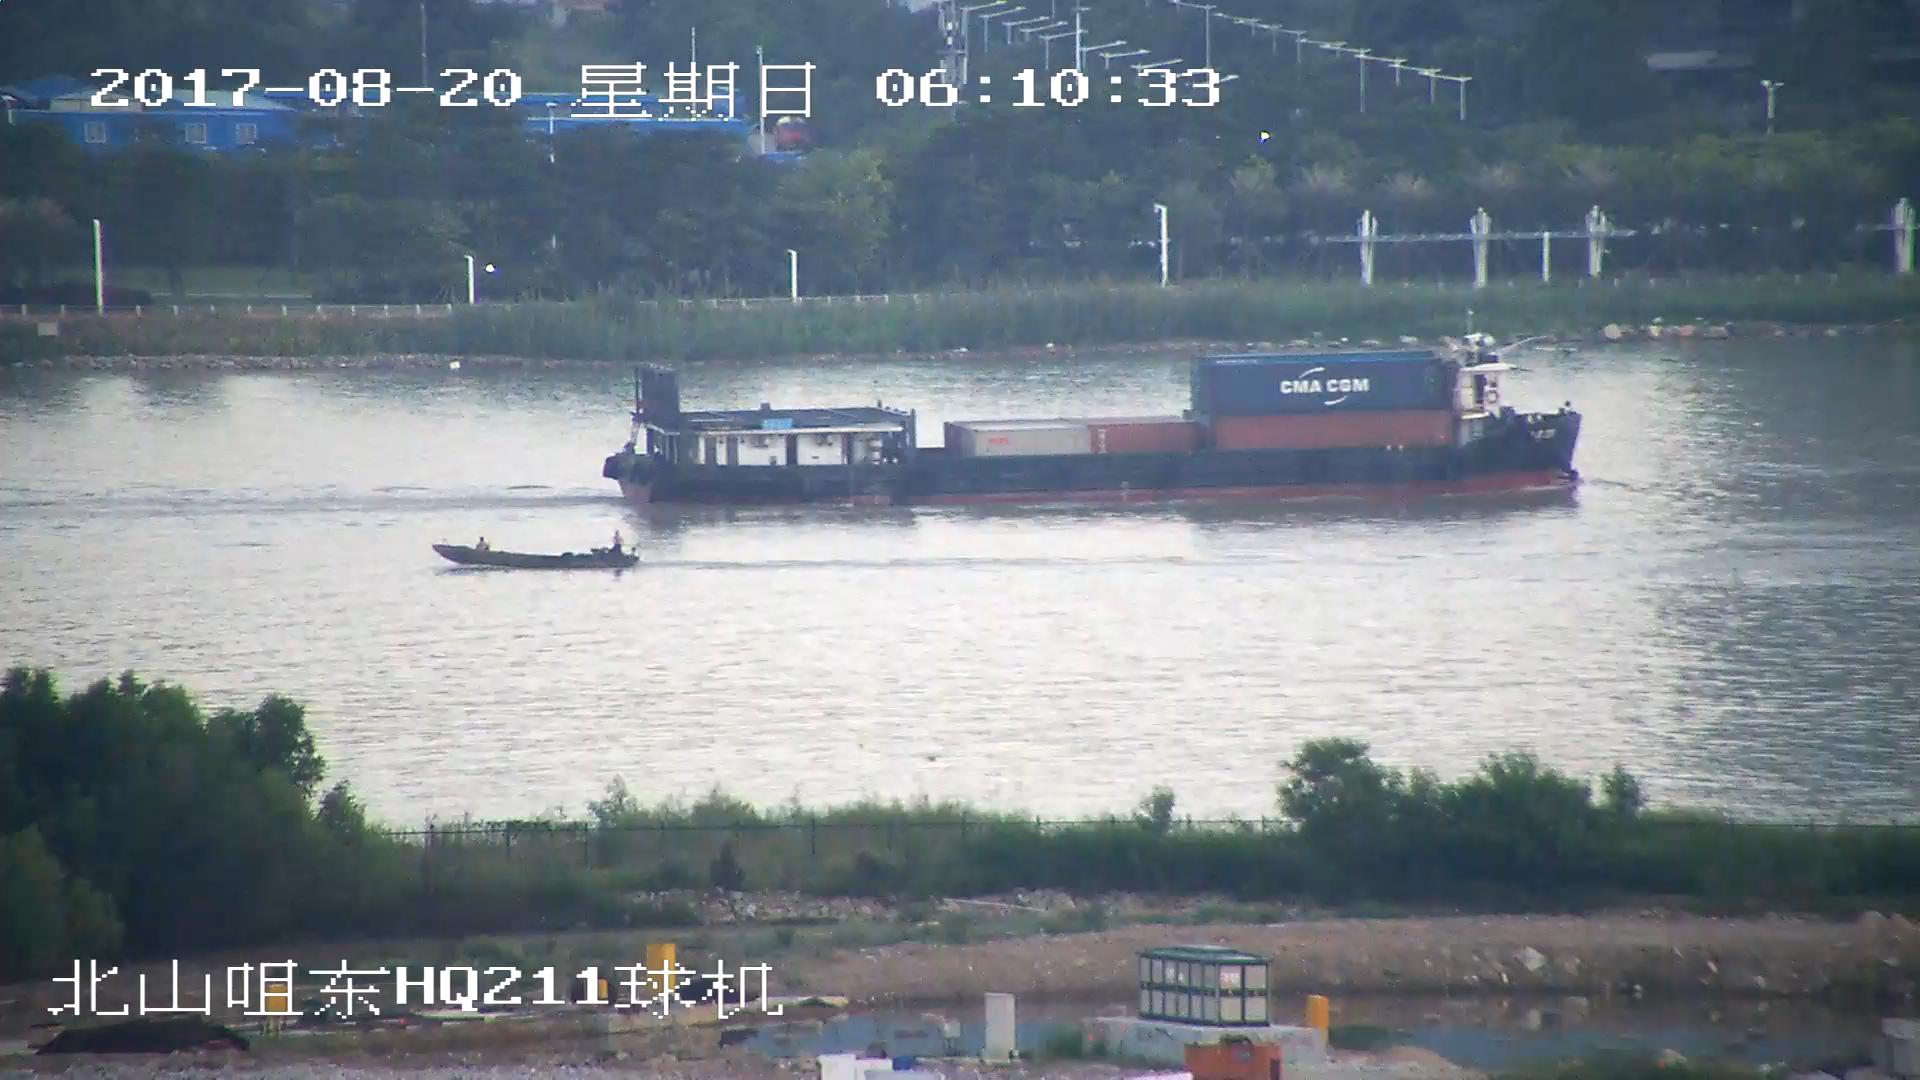container ship: (600, 326, 1592, 517)
fishing boat: (439, 531, 639, 581)
